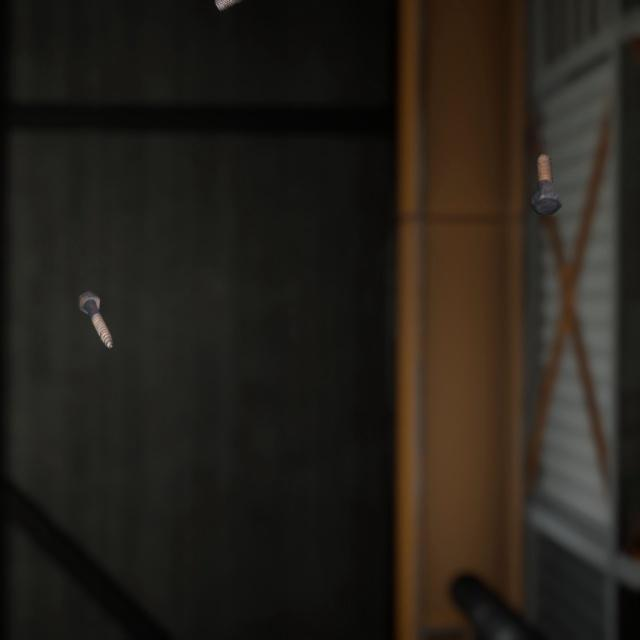bolt: (73, 269, 117, 334), (526, 135, 566, 205)
